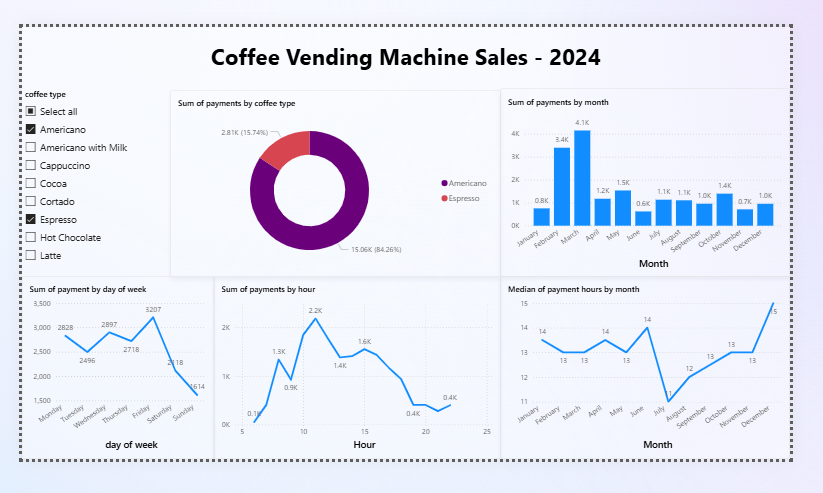

What the dashboard file says about the page in this screenshot:
{"tool":"powerbi","page":{"name":"Sales - 2024 - page 1","canvas":[1280,720],"ordinal":0},"visuals":[{"type":"columnChart","title":"Sum of payments by month","fields":{"Category":["coffee sales.date.Variation.Date Hierarchy.Month"],"Y":["Sum(coffee sales.money)"]},"box":[798,102,482,314],"z":0},{"type":"listSlicer","fields":{"Values":["coffee sales.coffee_name"]},"box":[0,102,213.7,314.1],"z":1000},{"type":"lineChart","title":"Median of payment hours by month","fields":{"Category":["coffee sales.date.Variation.Date Hierarchy.Month"],"Y":["Median(coffee sales.hour)"]},"box":[798,416,482,304],"z":2000},{"type":"textbox","box":[0,16.7,1280,66.7],"z":3000},{"type":"donutChart","title":"Sum of payments by coffee type","fields":{"Category":["coffee sales.coffee_name"],"Y":["Sum(coffee sales.money)"]},"box":[248,104,550,312],"z":4000},{"type":"lineChart","fields":{"Y":["Sum(coffee sales.payment)"],"Category":["coffee sales.day of week"]},"box":[0,416,320,304],"z":4001},{"type":"lineChart","title":"Sum of payments by hour","fields":{"Category":["coffee sales.hour"],"Y":["Sum(coffee sales.money)"]},"box":[320,416,478,304],"z":4002}]}

Visuals, with their boxes on the page's 1280x720 design canvas (x1, y1, x2, y2). These are canvas units, not pixel positions in the 823x493 screenshot, which may show the page scaled, cropped or inside an application window:
"Sum of payments by month" columnChart: x1=798, y1=102, x2=1280, y2=416
listSlicer - coffee sales.coffee_name: x1=0, y1=102, x2=214, y2=416
"Median of payment hours by month" lineChart: x1=798, y1=416, x2=1280, y2=720
textbox: x1=0, y1=17, x2=1280, y2=83
"Sum of payments by coffee type" donutChart: x1=248, y1=104, x2=798, y2=416
lineChart - Sum(coffee sales.payment) x coffee sales.day of week: x1=0, y1=416, x2=320, y2=720
"Sum of payments by hour" lineChart: x1=320, y1=416, x2=798, y2=720
